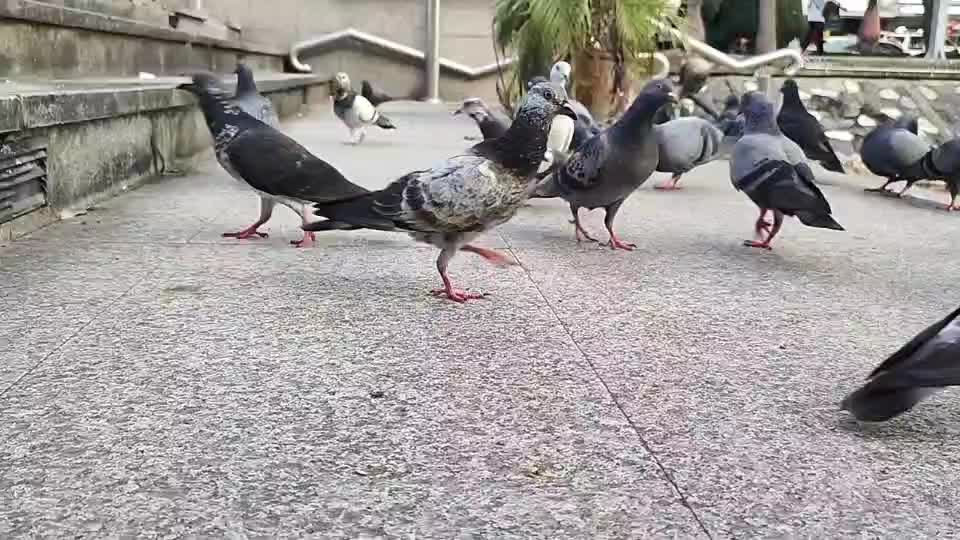Pigeon: (291, 80, 579, 303), (174, 71, 375, 246), (525, 77, 680, 251), (728, 89, 846, 250), (837, 304, 959, 424), (854, 112, 935, 198), (774, 78, 846, 174), (327, 71, 397, 145), (897, 136, 959, 211), (227, 62, 281, 130), (450, 95, 511, 140)
